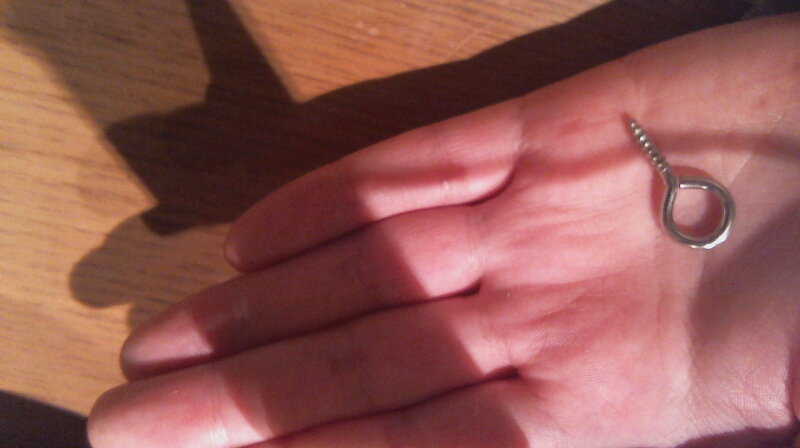O001: (621, 112, 737, 251)
